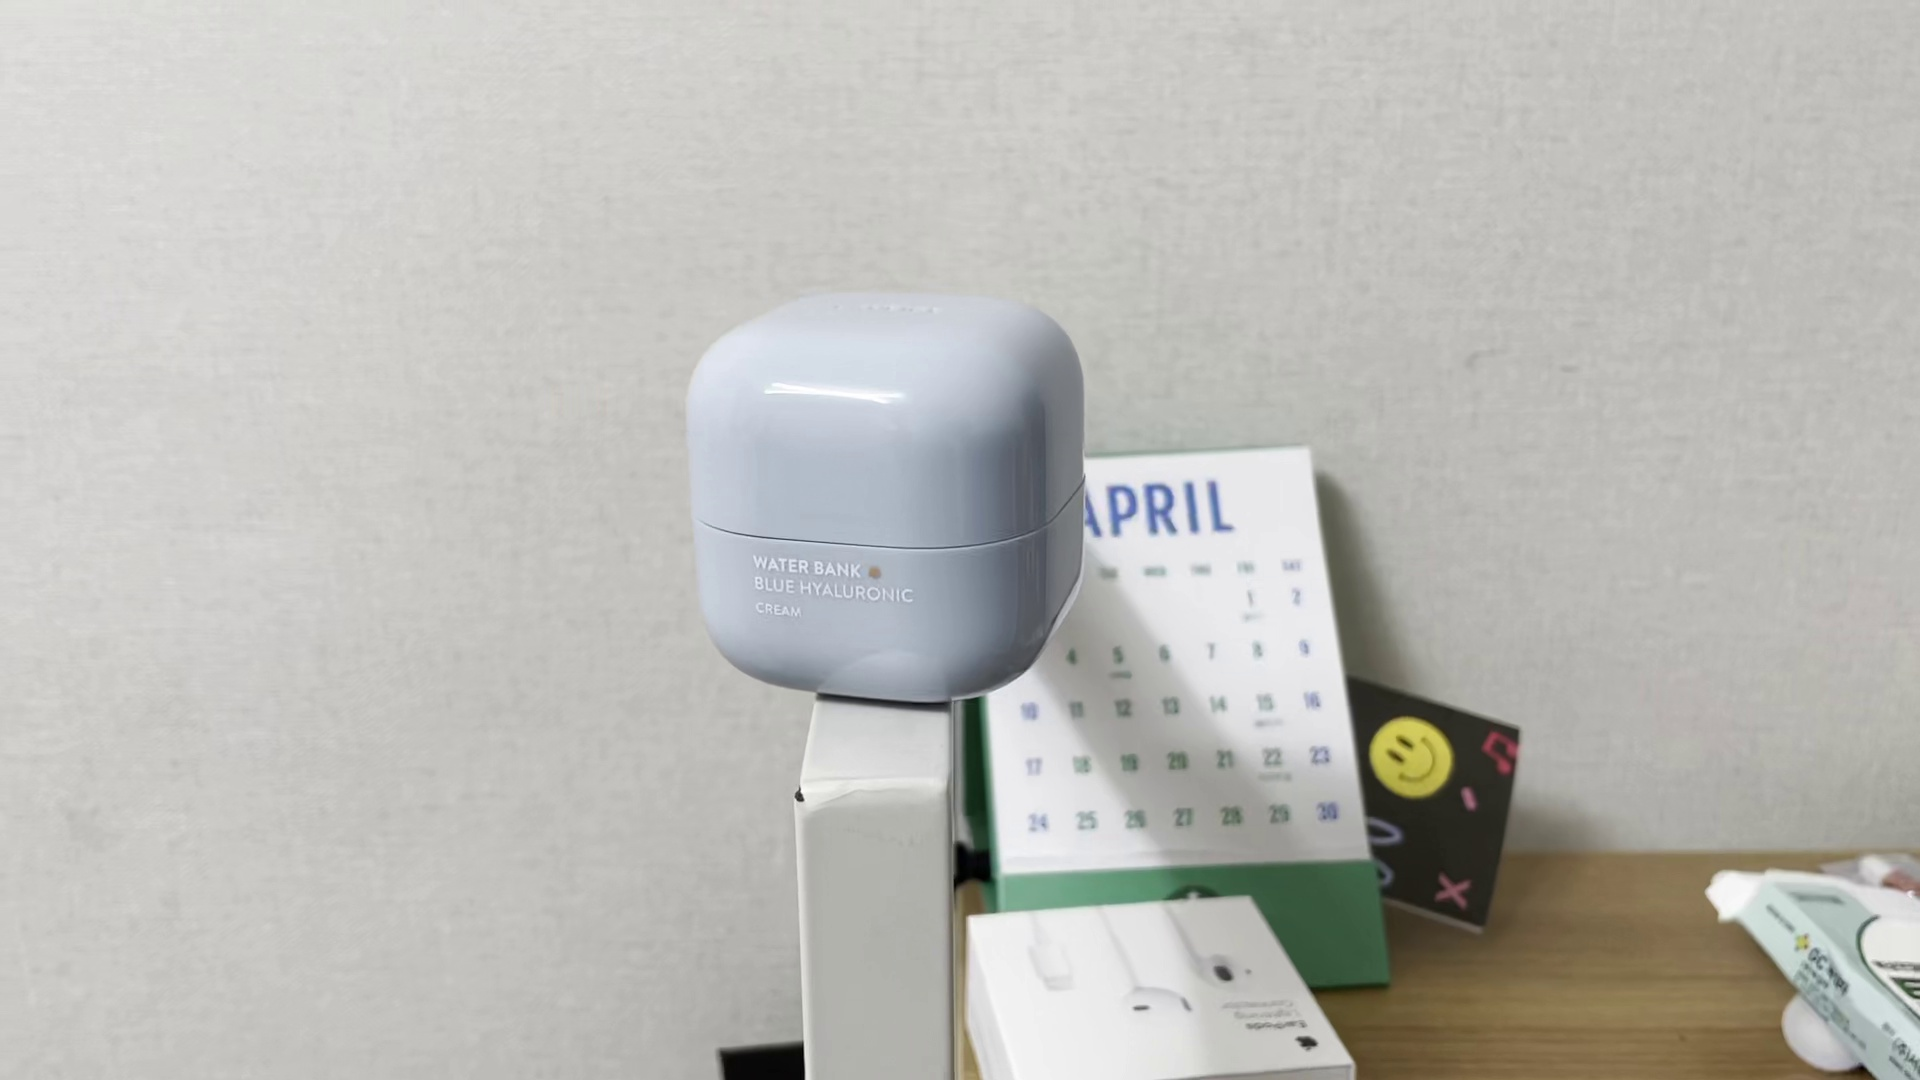cream: (684, 290, 1084, 705)
